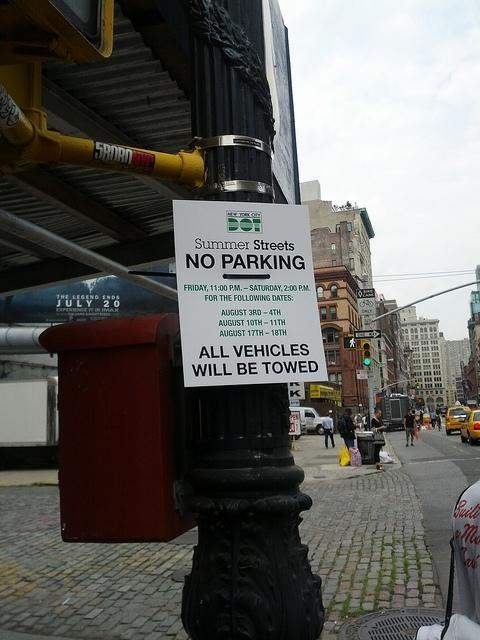car: (290, 407, 326, 434), (445, 407, 472, 435), (460, 410, 480, 446), (422, 413, 432, 423), (440, 406, 446, 416)
